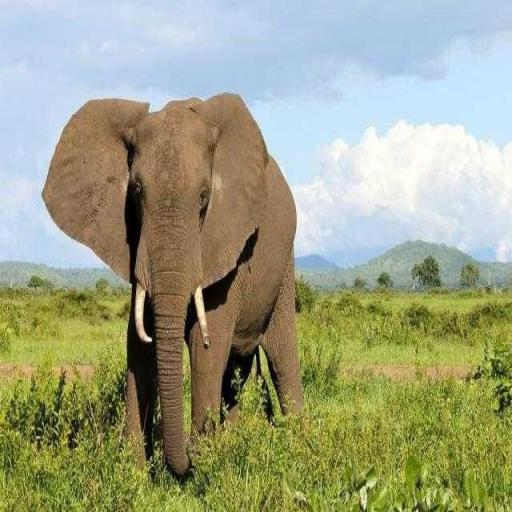Elephant: (41, 91, 304, 478)
